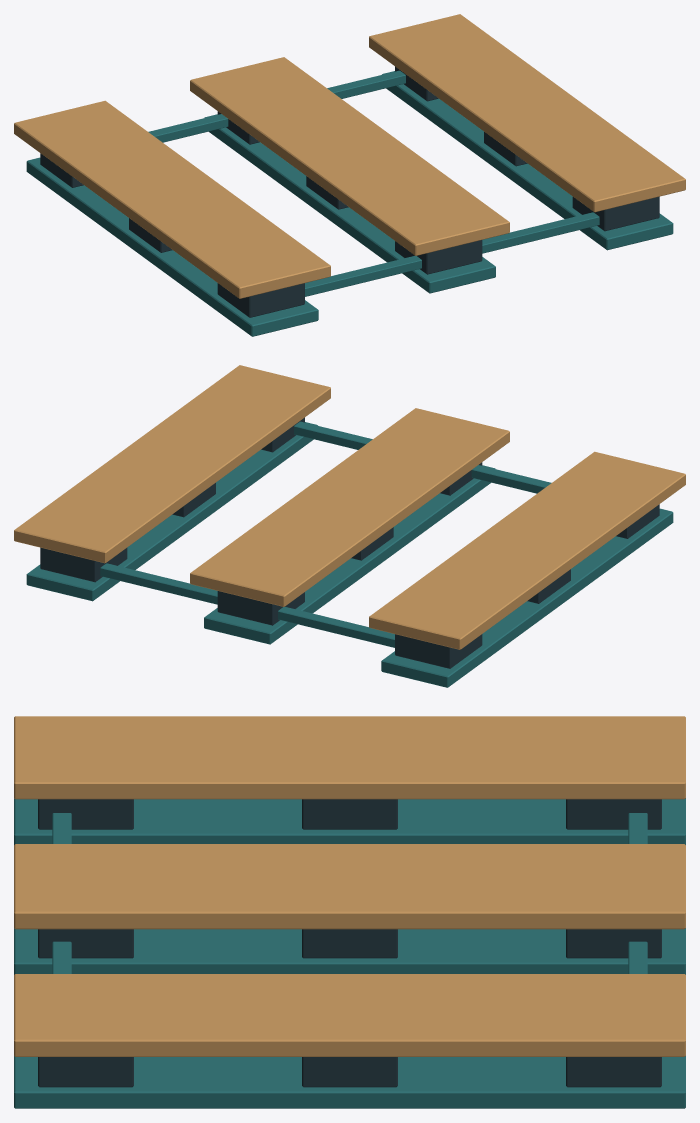
The model's file is heavy-bay.glb.
3 renders of one model, top to bottom at view 1: azimuth 30°, elevation 25°; view 2: azimuth 150°, elevation 25°; view 3: azimuth 270°, elevation 25°, orthographic. The views are drawn at different scales.
Visible parts, largest first — view 1: heavy-bay__batch_02, heavy-bay__batch_01, heavy-bay__batch_00; view 2: heavy-bay__batch_02, heavy-bay__batch_01, heavy-bay__batch_00; view 3: heavy-bay__batch_02, heavy-bay__batch_01, heavy-bay__batch_00.
Part boxes in pixels (x1,y1,x2,y2): heavy-bay__batch_02: [14, 14, 685, 298]; heavy-bay__batch_01: [26, 70, 673, 336]; heavy-bay__batch_00: [40, 66, 659, 317]; heavy-bay__batch_02: [14, 365, 685, 649]; heavy-bay__batch_01: [26, 421, 673, 687]; heavy-bay__batch_00: [40, 417, 659, 668]; heavy-bay__batch_02: [14, 716, 685, 1056]; heavy-bay__batch_01: [14, 798, 685, 1108]; heavy-bay__batch_00: [38, 799, 661, 1087].
Bounding box in the file's own units: 1.6 × 0.18 × 1.4.
